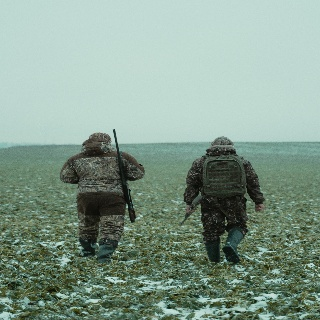rifle: (112, 128, 144, 223), (179, 193, 204, 226)
